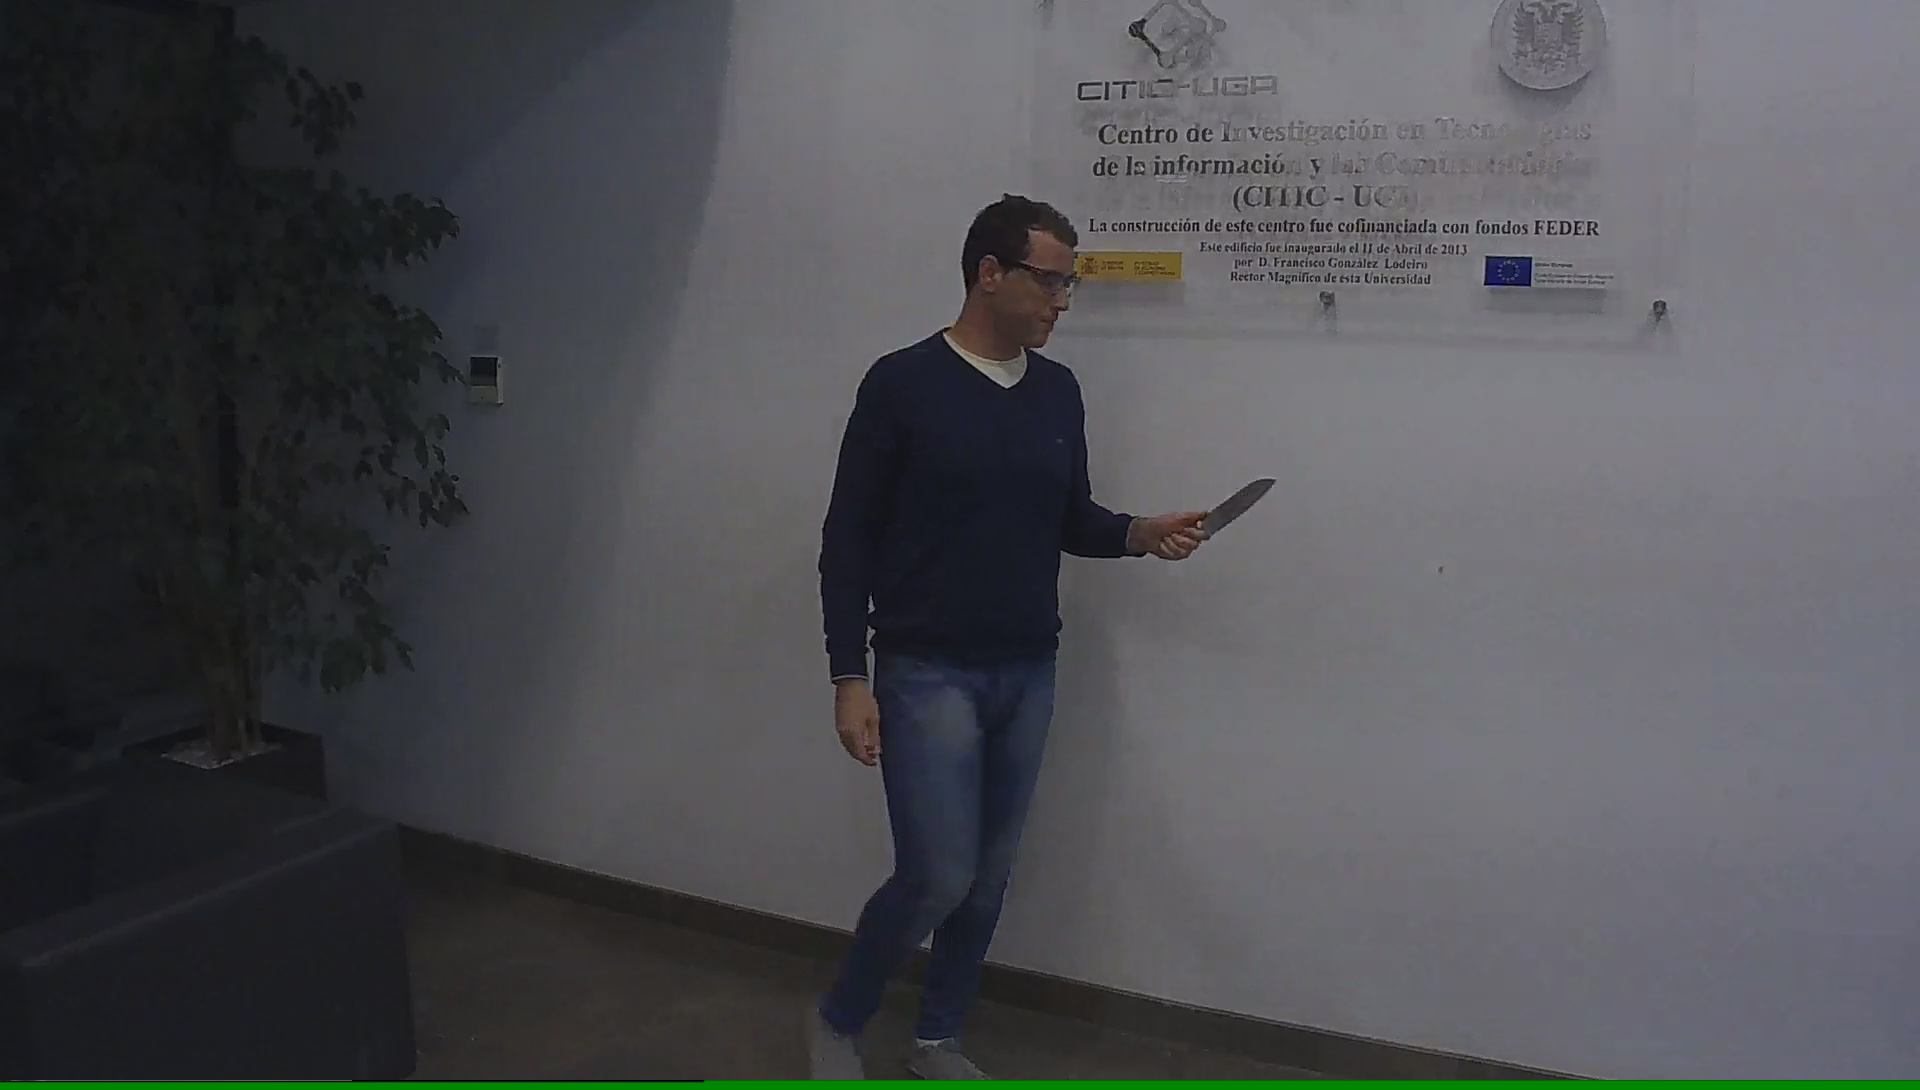knife: (1164, 473, 1283, 554)
